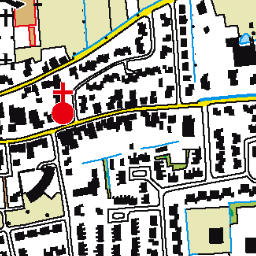church: (49, 80, 78, 128)
